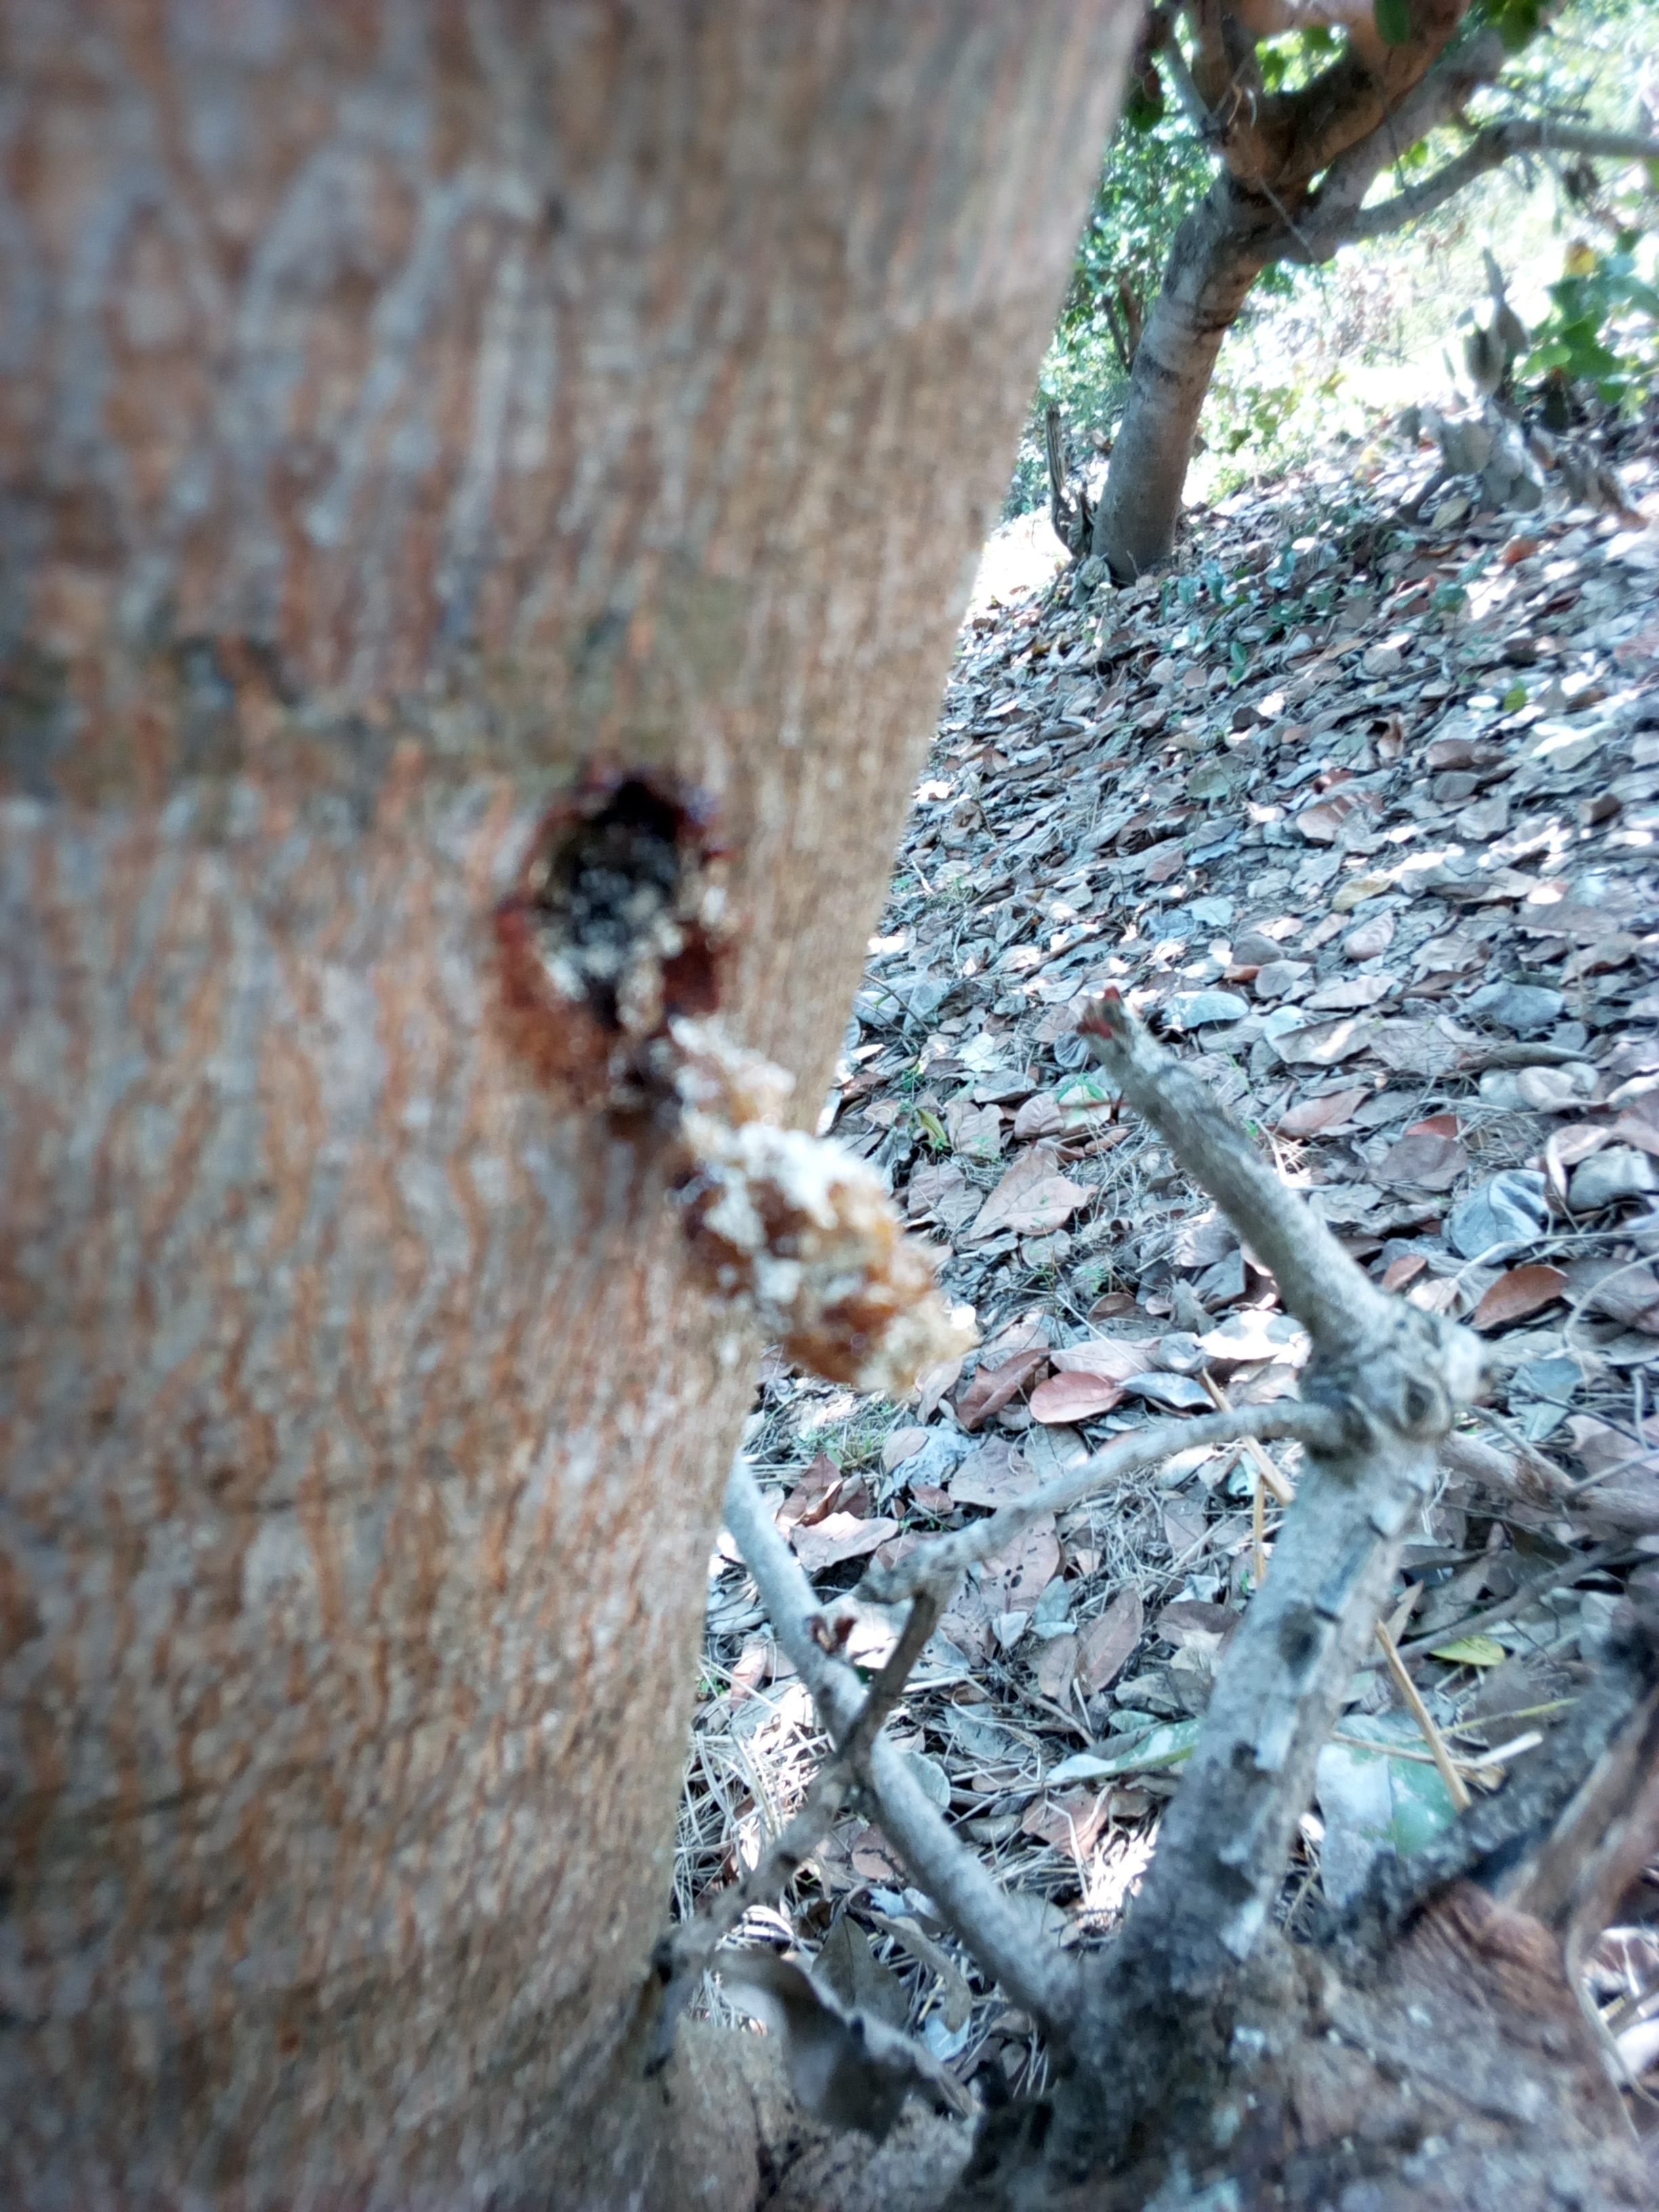Apate terebrans: (410, 709, 857, 1085)
